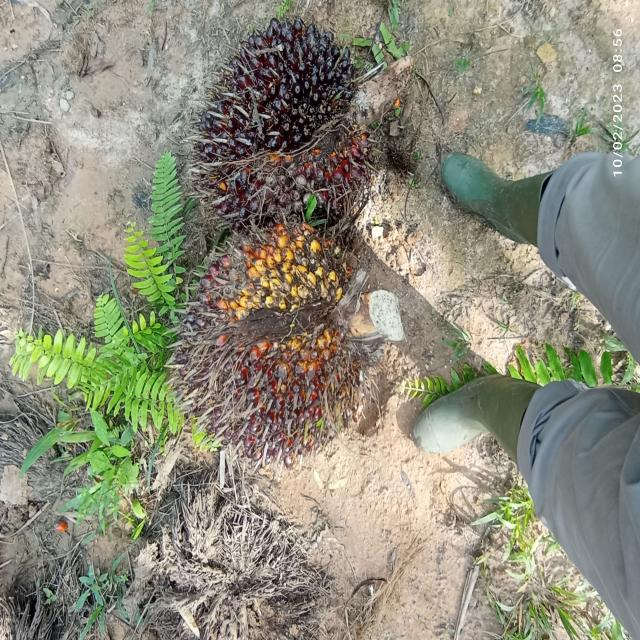fraksi 00: (168, 0, 414, 229)
fraksi 1: (118, 238, 444, 470)
